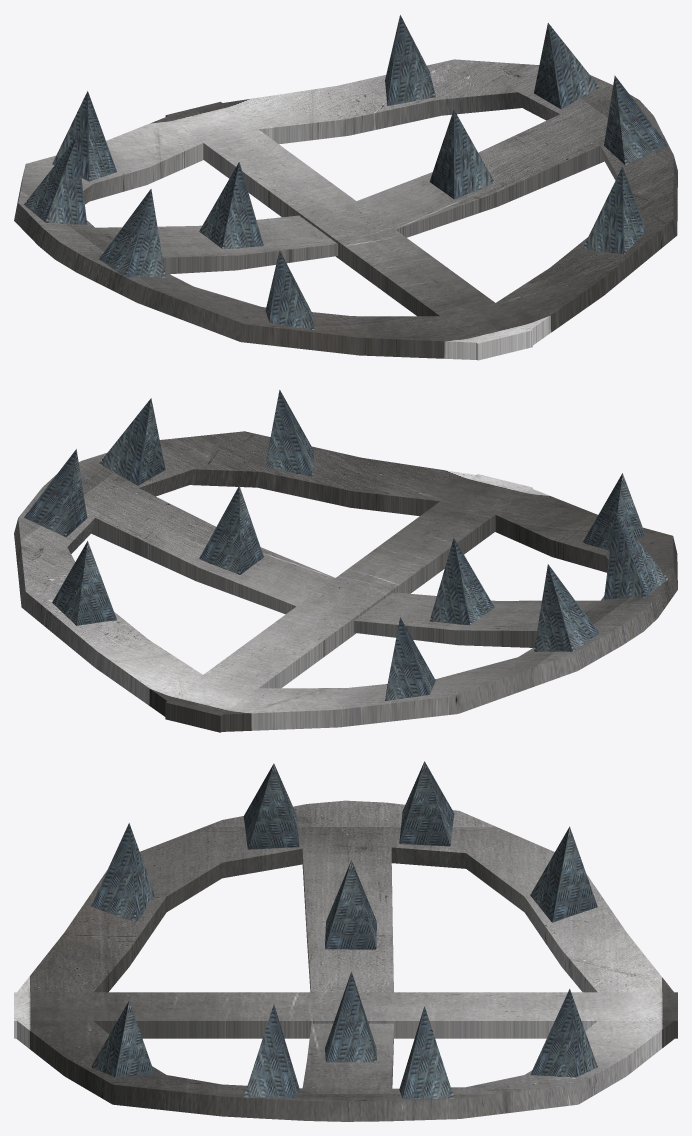
The model's file is 野兽夹灰.FBX.
The picture shows the model from 3 angles, top to bottom: view 1: azimuth 30°, elevation 25°; view 2: azimuth 150°, elevation 25°; view 3: azimuth 270°, elevation 25°; orthographic projection. The views are drawn at different scales.
Visible parts, largest first — view 1: Tube003, Tube002, Box001, Hedra004, Hedra002, Hedra005, Hedra012, Hedra009, Hedra011, Hedra010, Hedra008, Hedra001 (+1 smaller); view 2: Tube003, Tube002, Box001, Hedra002, Hedra004, Hedra011, Hedra005, Hedra012, Hedra008, Hedra009, Hedra010, Hedra001 (+1 smaller); view 3: Tube002, Tube003, Box001, Hedra001, Hedra003, Hedra004, Hedra008, Hedra002, Hedra005, Hedra011, Hedra012, Hedra009 (+1 smaller).
Boxes of the visible parts, left/top/right/bottom form: Tube003: left=222, top=59, right=677, bottom=345; Tube002: left=14, top=116, right=476, bottom=359; Box001: left=165, top=101, right=532, bottom=360; Hedra004: left=99, top=189, right=165, bottom=277; Hedra002: left=24, top=138, right=87, bottom=224; Hedra005: left=199, top=162, right=263, bottom=248; Hedra012: left=429, top=109, right=494, bottom=199; Hedra009: left=534, top=23, right=599, bottom=108; Hedra011: left=604, top=75, right=667, bottom=164; Hedra010: left=583, top=166, right=645, bottom=254; Hedra008: left=385, top=15, right=435, bottom=105; Hedra001: left=52, top=91, right=116, bottom=181; Tube003: left=14, top=431, right=475, bottom=716; Tube002: left=222, top=488, right=677, bottom=731; Box001: left=165, top=474, right=532, bottom=732; Hedra002: left=534, top=564, right=599, bottom=651; Hedra004: left=604, top=511, right=667, bottom=599; Hedra011: left=99, top=398, right=165, bottom=485; Hedra005: left=429, top=538, right=494, bottom=624; Hedra012: left=199, top=485, right=263, bottom=574; Hedra008: left=52, top=541, right=116, bottom=625; Hedra009: left=24, top=449, right=87, bottom=537; Hedra010: left=265, top=390, right=313, bottom=476; Hedra001: left=385, top=617, right=435, bottom=700; Tube002: left=17, top=800, right=673, bottom=992; Tube003: left=16, top=1020, right=674, bottom=1121; Box001: left=14, top=992, right=677, bottom=1038; Hedra001: left=530, top=826, right=597, bottom=922; Hedra003: left=91, top=823, right=154, bottom=921; Hedra004: left=243, top=763, right=299, bottom=849; Hedra008: left=530, top=989, right=597, bottom=1077; Hedra002: left=399, top=761, right=454, bottom=846; Hedra005: left=325, top=860, right=376, bottom=949; Hedra011: left=244, top=1004, right=299, bottom=1097; Hedra012: left=325, top=971, right=376, bottom=1062; Hedra009: left=399, top=1006, right=453, bottom=1098.
Bounding box in the file's own units: 40.69 × 8.8 × 37.36.
